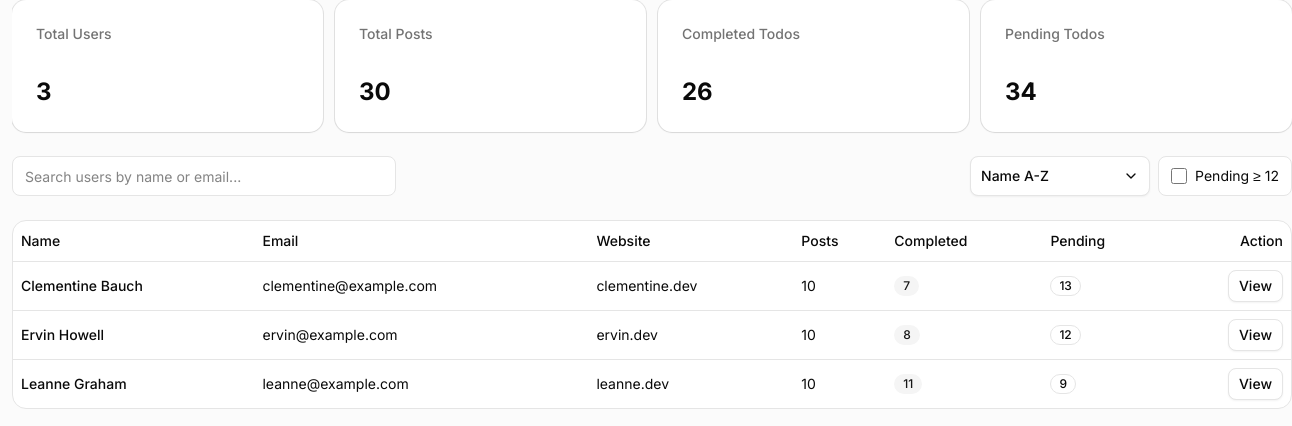
Test: UsersClient › filters users with high pending todos
Click the checkbox at (1179, 176), box [1171,168,1187,184]
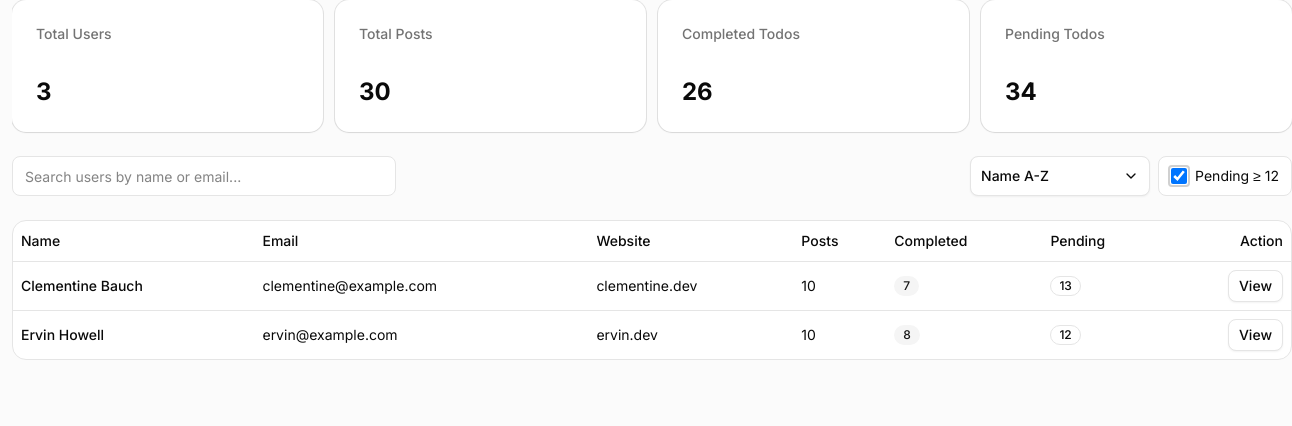
Check: the text "Ervin Howell" is shown, box [13,310,254,358]
Check: the text "Leanne Graham" is gone
